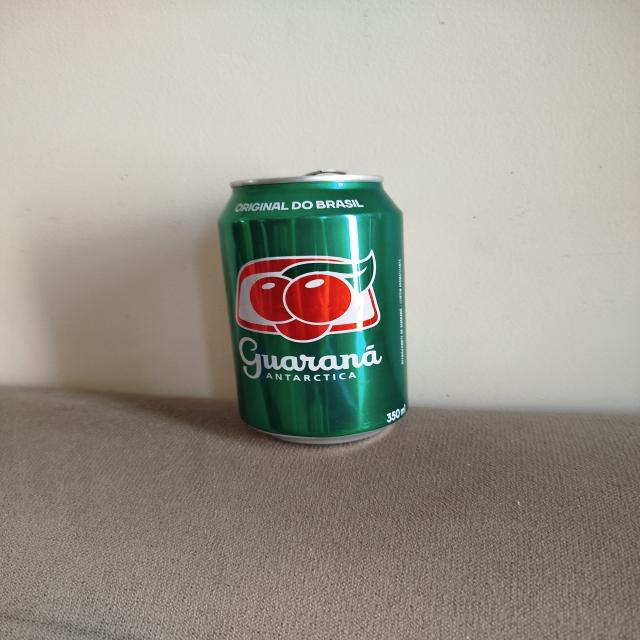Guarana: (222, 173, 412, 444)
